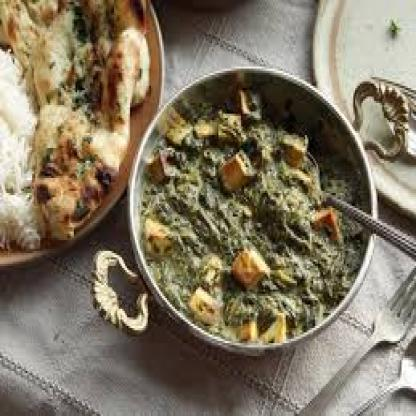palak_paneer: (142, 89, 366, 345)
